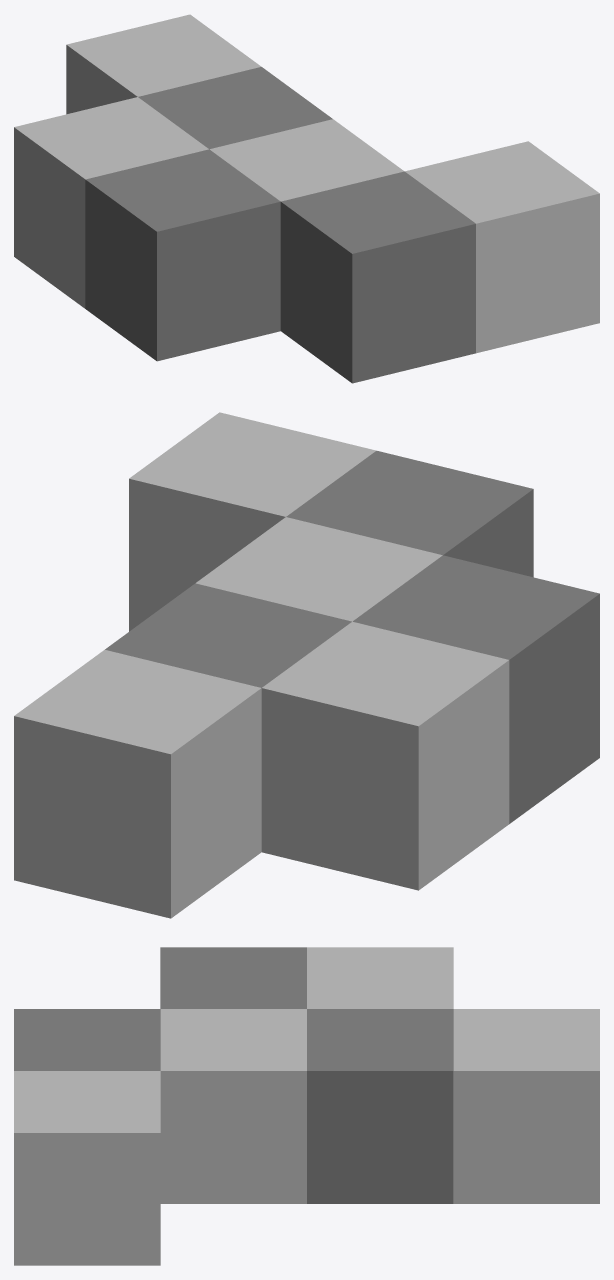
Rendered from TrashPiece.obj.
3 views of the same model, one above another, from view 1: azimuth 30°, elevation 25°; view 2: azimuth 150°, elevation 25°; view 3: azimuth 270°, elevation 25° (orthographic). The views are drawn at different scales.
Parts seen in each view (by area): view 1: TrashPiece; view 2: TrashPiece; view 3: TrashPiece.
Boxes of the visible parts, x1,y1,x2,y2 form: TrashPiece: (14, 14, 599, 383); TrashPiece: (14, 412, 599, 918); TrashPiece: (14, 947, 599, 1265).
Size of the model in its own units: 0.3 by 0.1 by 0.4.
Materials: 1 (1 with a texture image).
